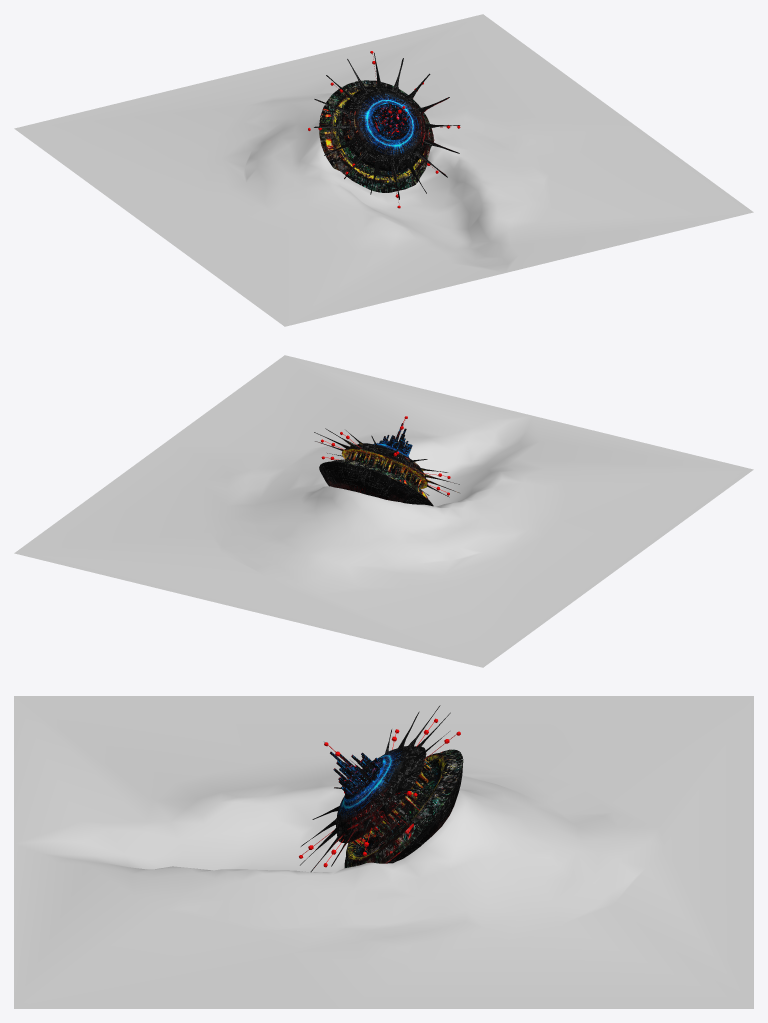
The model's file is ship_and_ground.fbx.
3 views of the same model, one above another, from view 1: azimuth 30°, elevation 25°; view 2: azimuth 150°, elevation 25°; view 3: azimuth 270°, elevation 25° (orthographic). The views are drawn at different scales.
Parts seen in each view (by area): view 1: Plane, Hull; view 2: Plane, Hull; view 3: Plane, Hull.
Boxes of the visible parts, bbox=[...] form: Plane: bbox=[14, 14, 753, 326]; Hull: bbox=[314, 53, 460, 199]; Plane: bbox=[14, 355, 753, 667]; Hull: bbox=[314, 423, 459, 506]; Plane: bbox=[14, 696, 753, 1008]; Hull: bbox=[300, 705, 463, 871].
Bounding box in the file's own units: 1000 × 228 × 1000.
